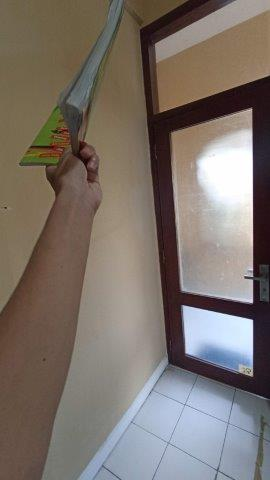kertas: (19, 1, 122, 170)
